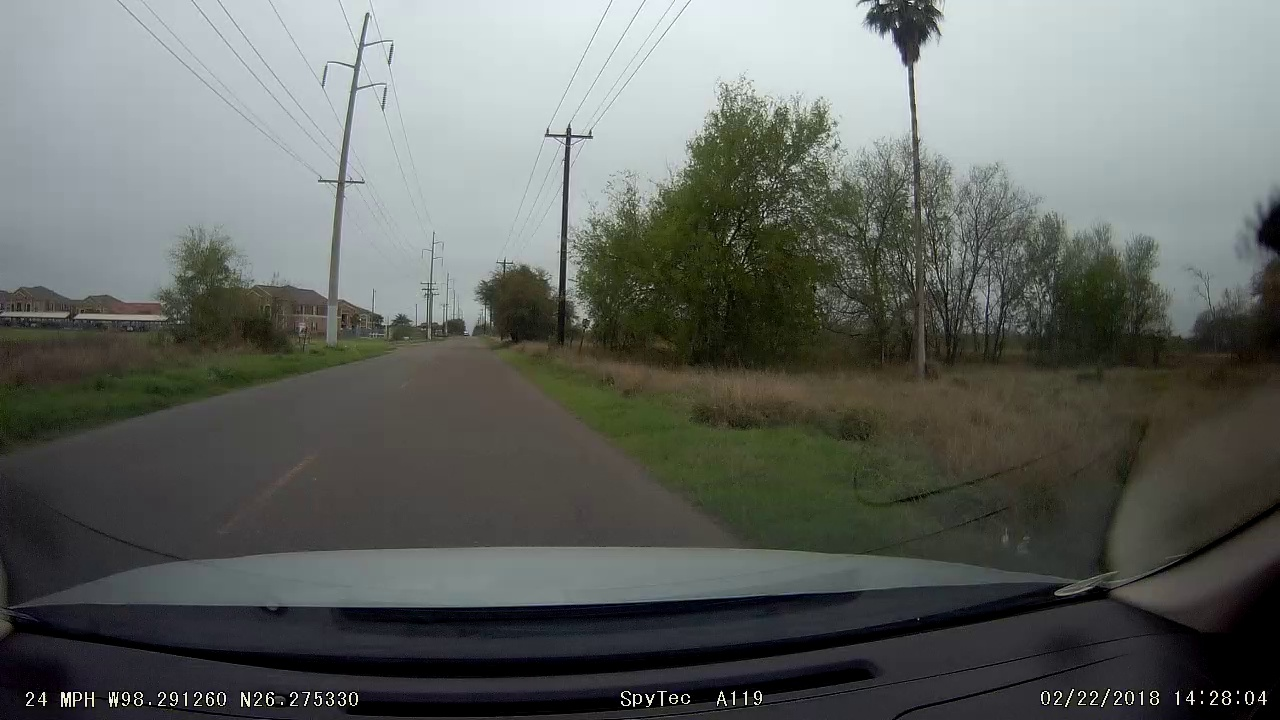blurredLine: (183, 446, 354, 543)
